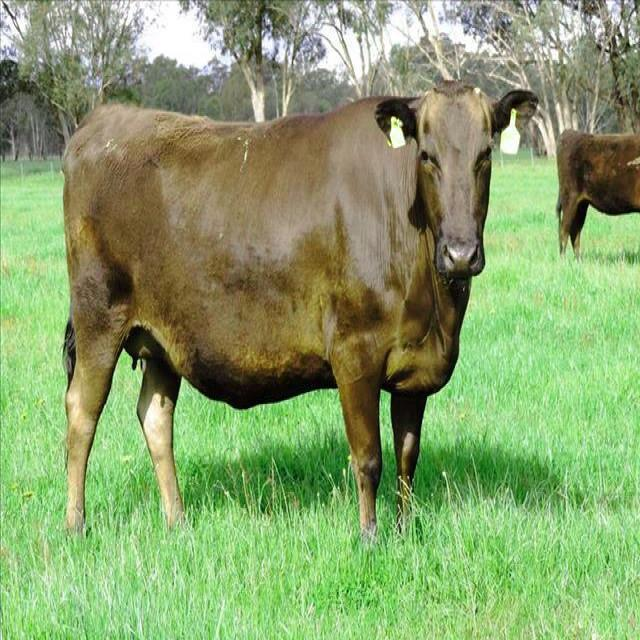cow: (64, 82, 535, 534), (556, 130, 640, 256)
